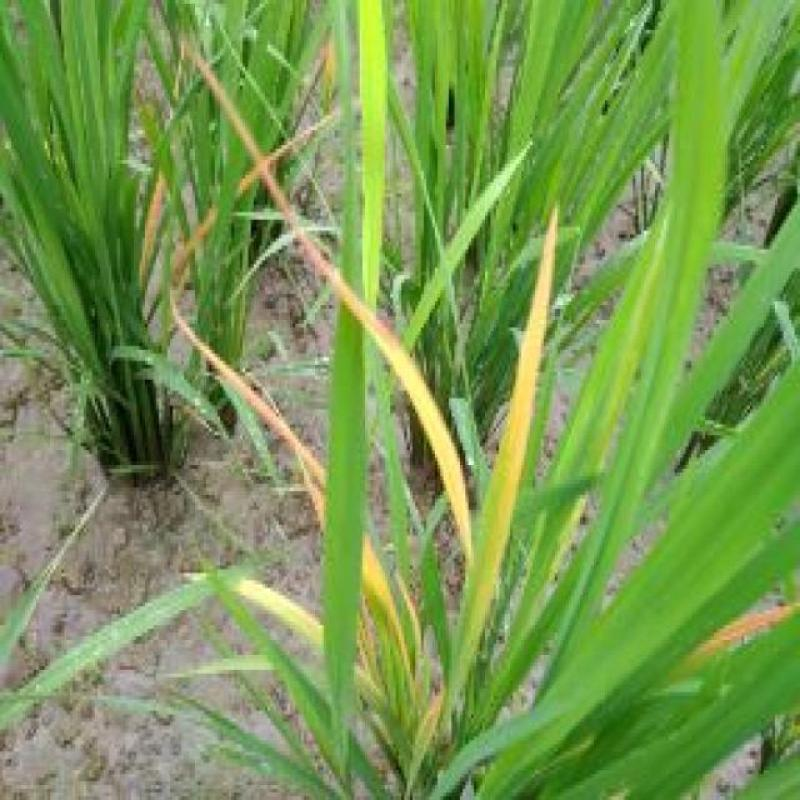Rice Tungro: (419, 199, 565, 721)
